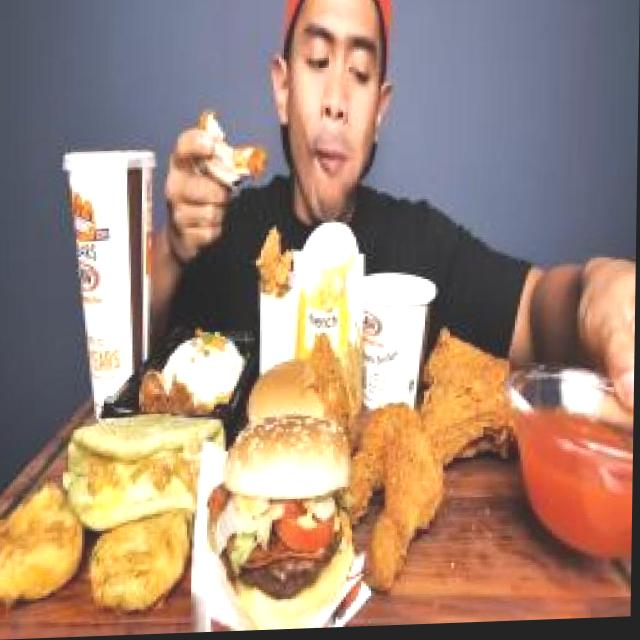AW cola: (45, 133, 178, 420)
black pepper rice bowl: (133, 340, 259, 419)
cheese burger: (245, 340, 341, 443)
chicken waffle: (244, 241, 315, 353)
crispy corn: (360, 260, 442, 397)
french fries: (301, 218, 357, 334)
fried chicken: (348, 315, 524, 585), (308, 329, 359, 439)
mango chicken pocket: (62, 403, 248, 541)
mozza burger: (216, 402, 358, 630)
perkedel: (86, 492, 202, 618), (0, 470, 89, 608)
